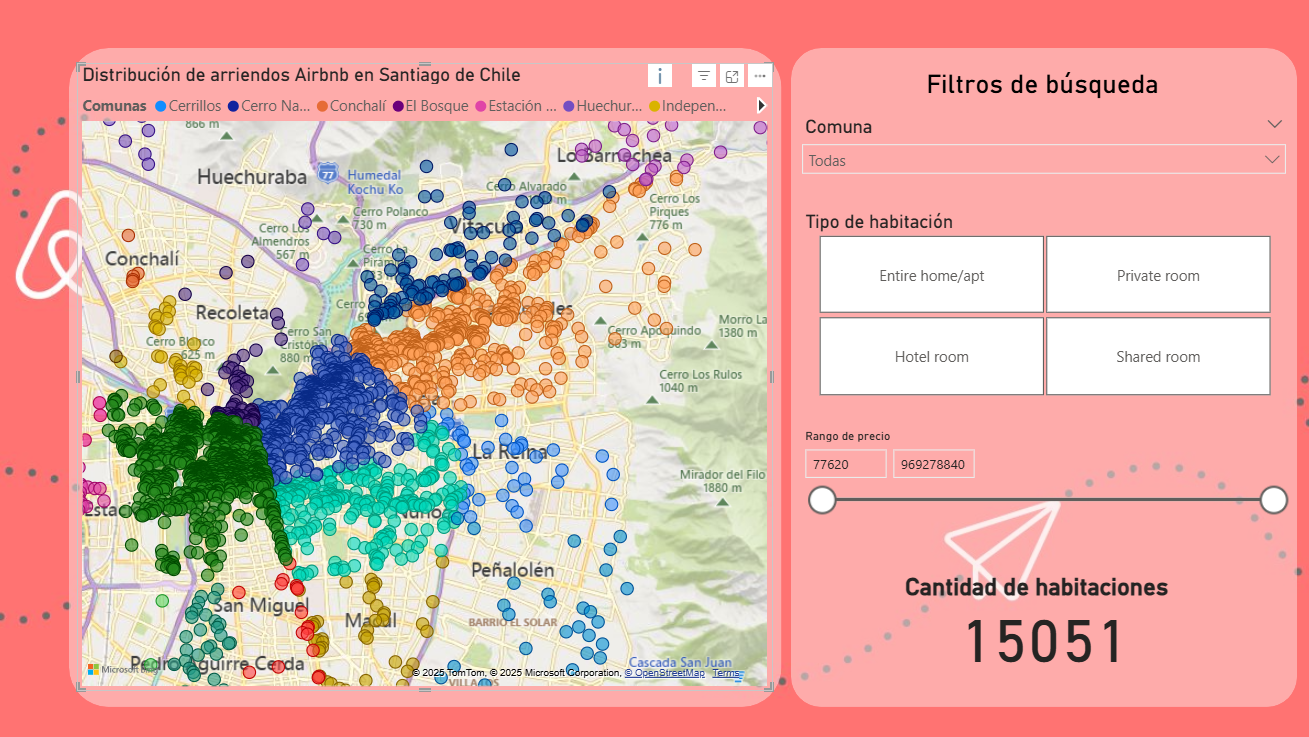

This screenshot's page, from the dashboard's own definition file:
{"tool":"powerbi","page":{"name":"Página 1","canvas":[1280,720],"ordinal":0},"visuals":[{"type":"shape","box":[734.3,68.1,460.1,599.1],"z":0},{"type":"shape","box":[77.8,68.1,647.8,599.1],"z":1000},{"type":"map","title":"Distribución de arriendos Airbnb en Santiago de Chile","fields":{"Y":["df_limpio.latitude"],"X":["df_limpio.longitude"],"Series":["df_limpio.neighbourhood"]},"box":[85.6,81.7,632.2,570.9],"z":2000},{"type":"slicer","fields":{"Values":["df_limpio.neighbourhood"]},"box":[734.3,124.5,460.1,71],"z":3000},{"type":"card","title":"Cantidad de habitaciones","fields":{"Values":["CountNonNull(df_limpio.host_id)"]},"box":[734.3,534,460.1,133.3],"z":4000,"group":"g1"},{"type":"slicer","fields":{"Values":["df_limpio.room_type"]},"box":[734.3,211.1,460.1,179.9],"z":5000},{"type":"slicer","fields":{"Values":["df_limpio.price"]},"box":[734.3,409.5,460.1,102.1],"z":6000},{"type":"textbox","box":[808.2,540.8,299.6,37],"z":7000,"group":"g1"},{"type":"group","id":"g1","title":"Grupo 1","box":[734.3,534,460.1,133.3],"z":7001},{"type":"textbox","box":[853,81.7,223.7,42.8],"z":7002}]}

Visuals, with their boxes in screenshot pixels (x1, y1, x2, y2), scaled from the page's 1280x720 canvas onto the 1309x737 screenshot:
shape: x1=751, y1=70, x2=1221, y2=683
shape: x1=80, y1=70, x2=742, y2=683
"Distribución de arriendos Airbnb en Santiago de Chile" map: x1=88, y1=84, x2=734, y2=668
slicer - df_limpio.neighbourhood: x1=751, y1=127, x2=1221, y2=200
"Cantidad de habitaciones" card: x1=751, y1=547, x2=1221, y2=683
slicer - df_limpio.room_type: x1=751, y1=216, x2=1221, y2=400
slicer - df_limpio.price: x1=751, y1=419, x2=1221, y2=524
textbox: x1=827, y1=554, x2=1133, y2=591
"Grupo 1" group: x1=751, y1=547, x2=1221, y2=683
textbox: x1=872, y1=84, x2=1101, y2=127
